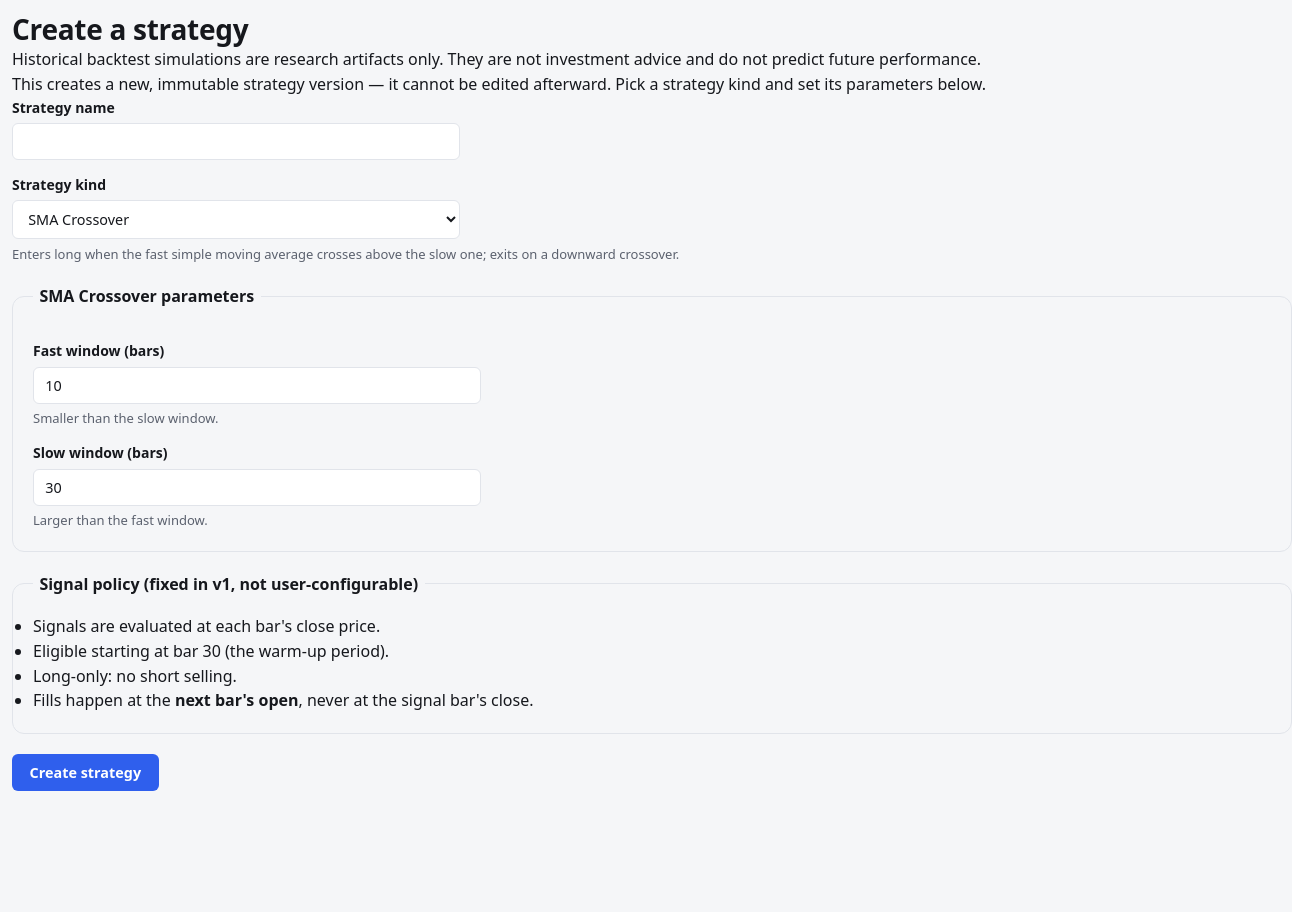
NewStrategyPage › switching kind resets parameter fields to that kind's defaults
The image size is (1292, 912).
Step 1. Select "RSI Threshold" in the dropdown labelled "Strategy kind" → (236, 220), box top-left (12, 200), bottom-right (460, 239)
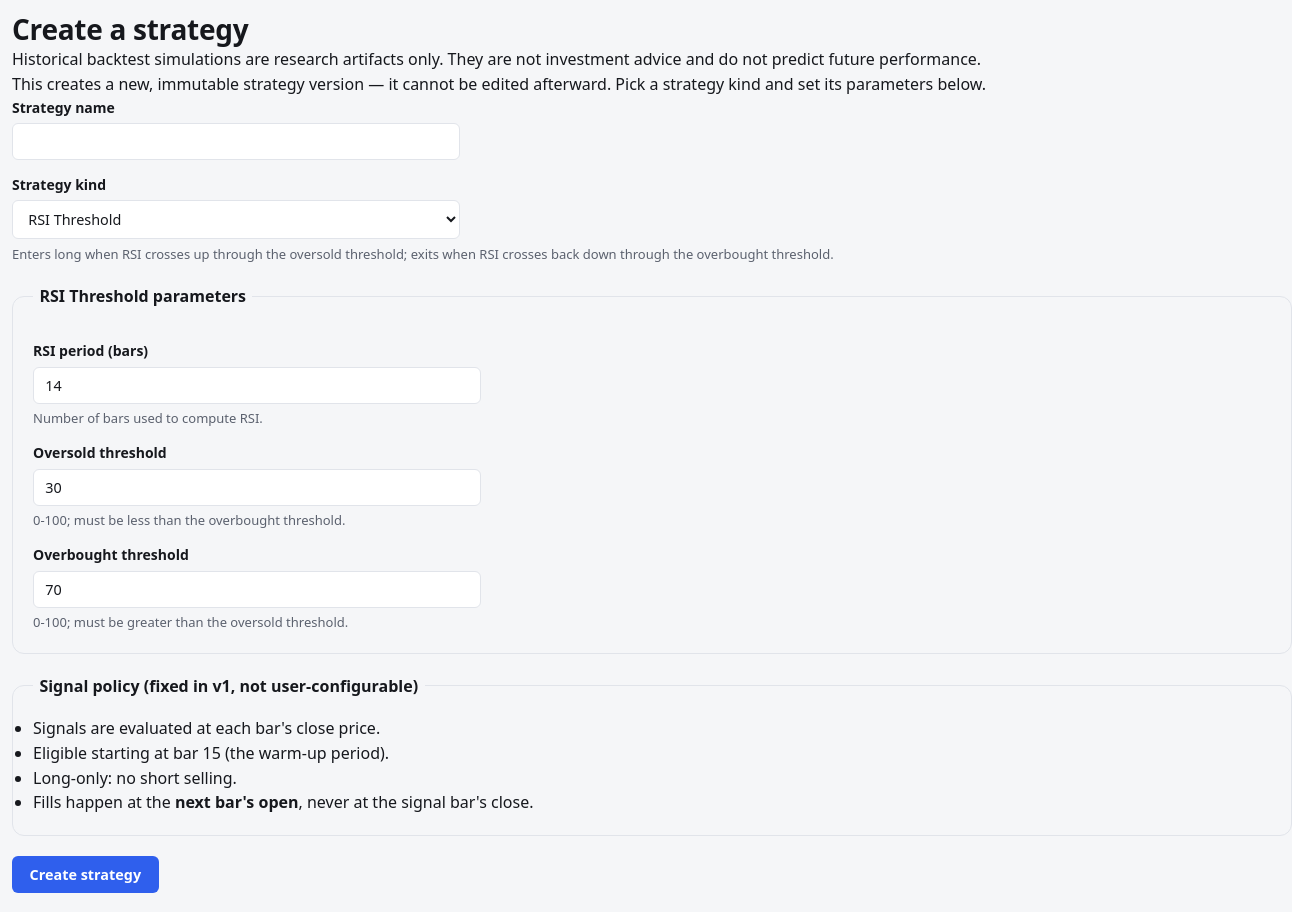
Expected: the field labelled "Oversold threshold" holds "30", top-left (33, 469), bottom-right (481, 506)
Expected: the field labelled "RSI period (bars)" holds "14", top-left (33, 367), bottom-right (481, 404)
Expected: the field labelled "Overbought threshold" holds "70", top-left (33, 571), bottom-right (481, 608)
